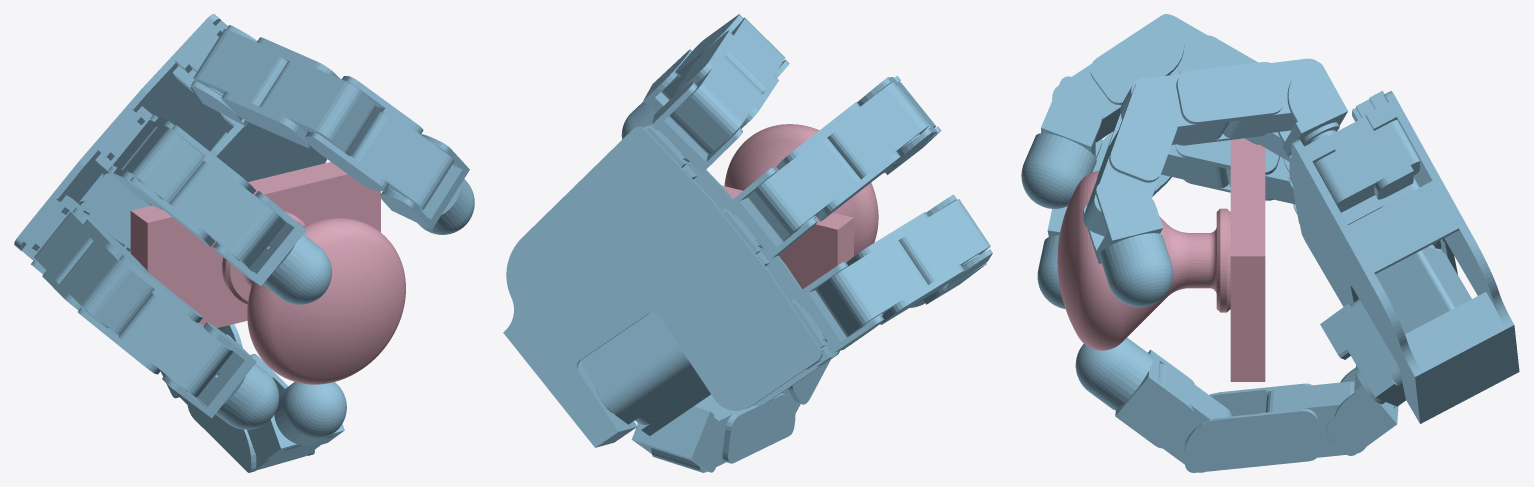
3 renders of one model, left to right at view 1: azimuth 30°, elevation 25°; view 2: azimuth 150°, elevation 25°; view 3: azimuth 270°, elevation 25°, orthographic. The views are drawn at different scales.
Parts seen in each view (by area): view 1: world, door_knob.stl; view 2: world, door_knob.stl; view 3: world, door_knob.stl.
Boxes of the visible parts, left/top/right/bottom form: world: left=14, top=14, right=474, bottom=472; door_knob.stl: left=130, top=162, right=405, bottom=384; world: left=503, top=14, right=992, bottom=472; door_knob.stl: left=722, top=124, right=878, bottom=289; world: left=1021, top=14, right=1519, bottom=472; door_knob.stl: left=1057, top=139, right=1265, bottom=381.
Bounding box in the file's own units: 0.1645 × 0.1636 × 0.1798.
